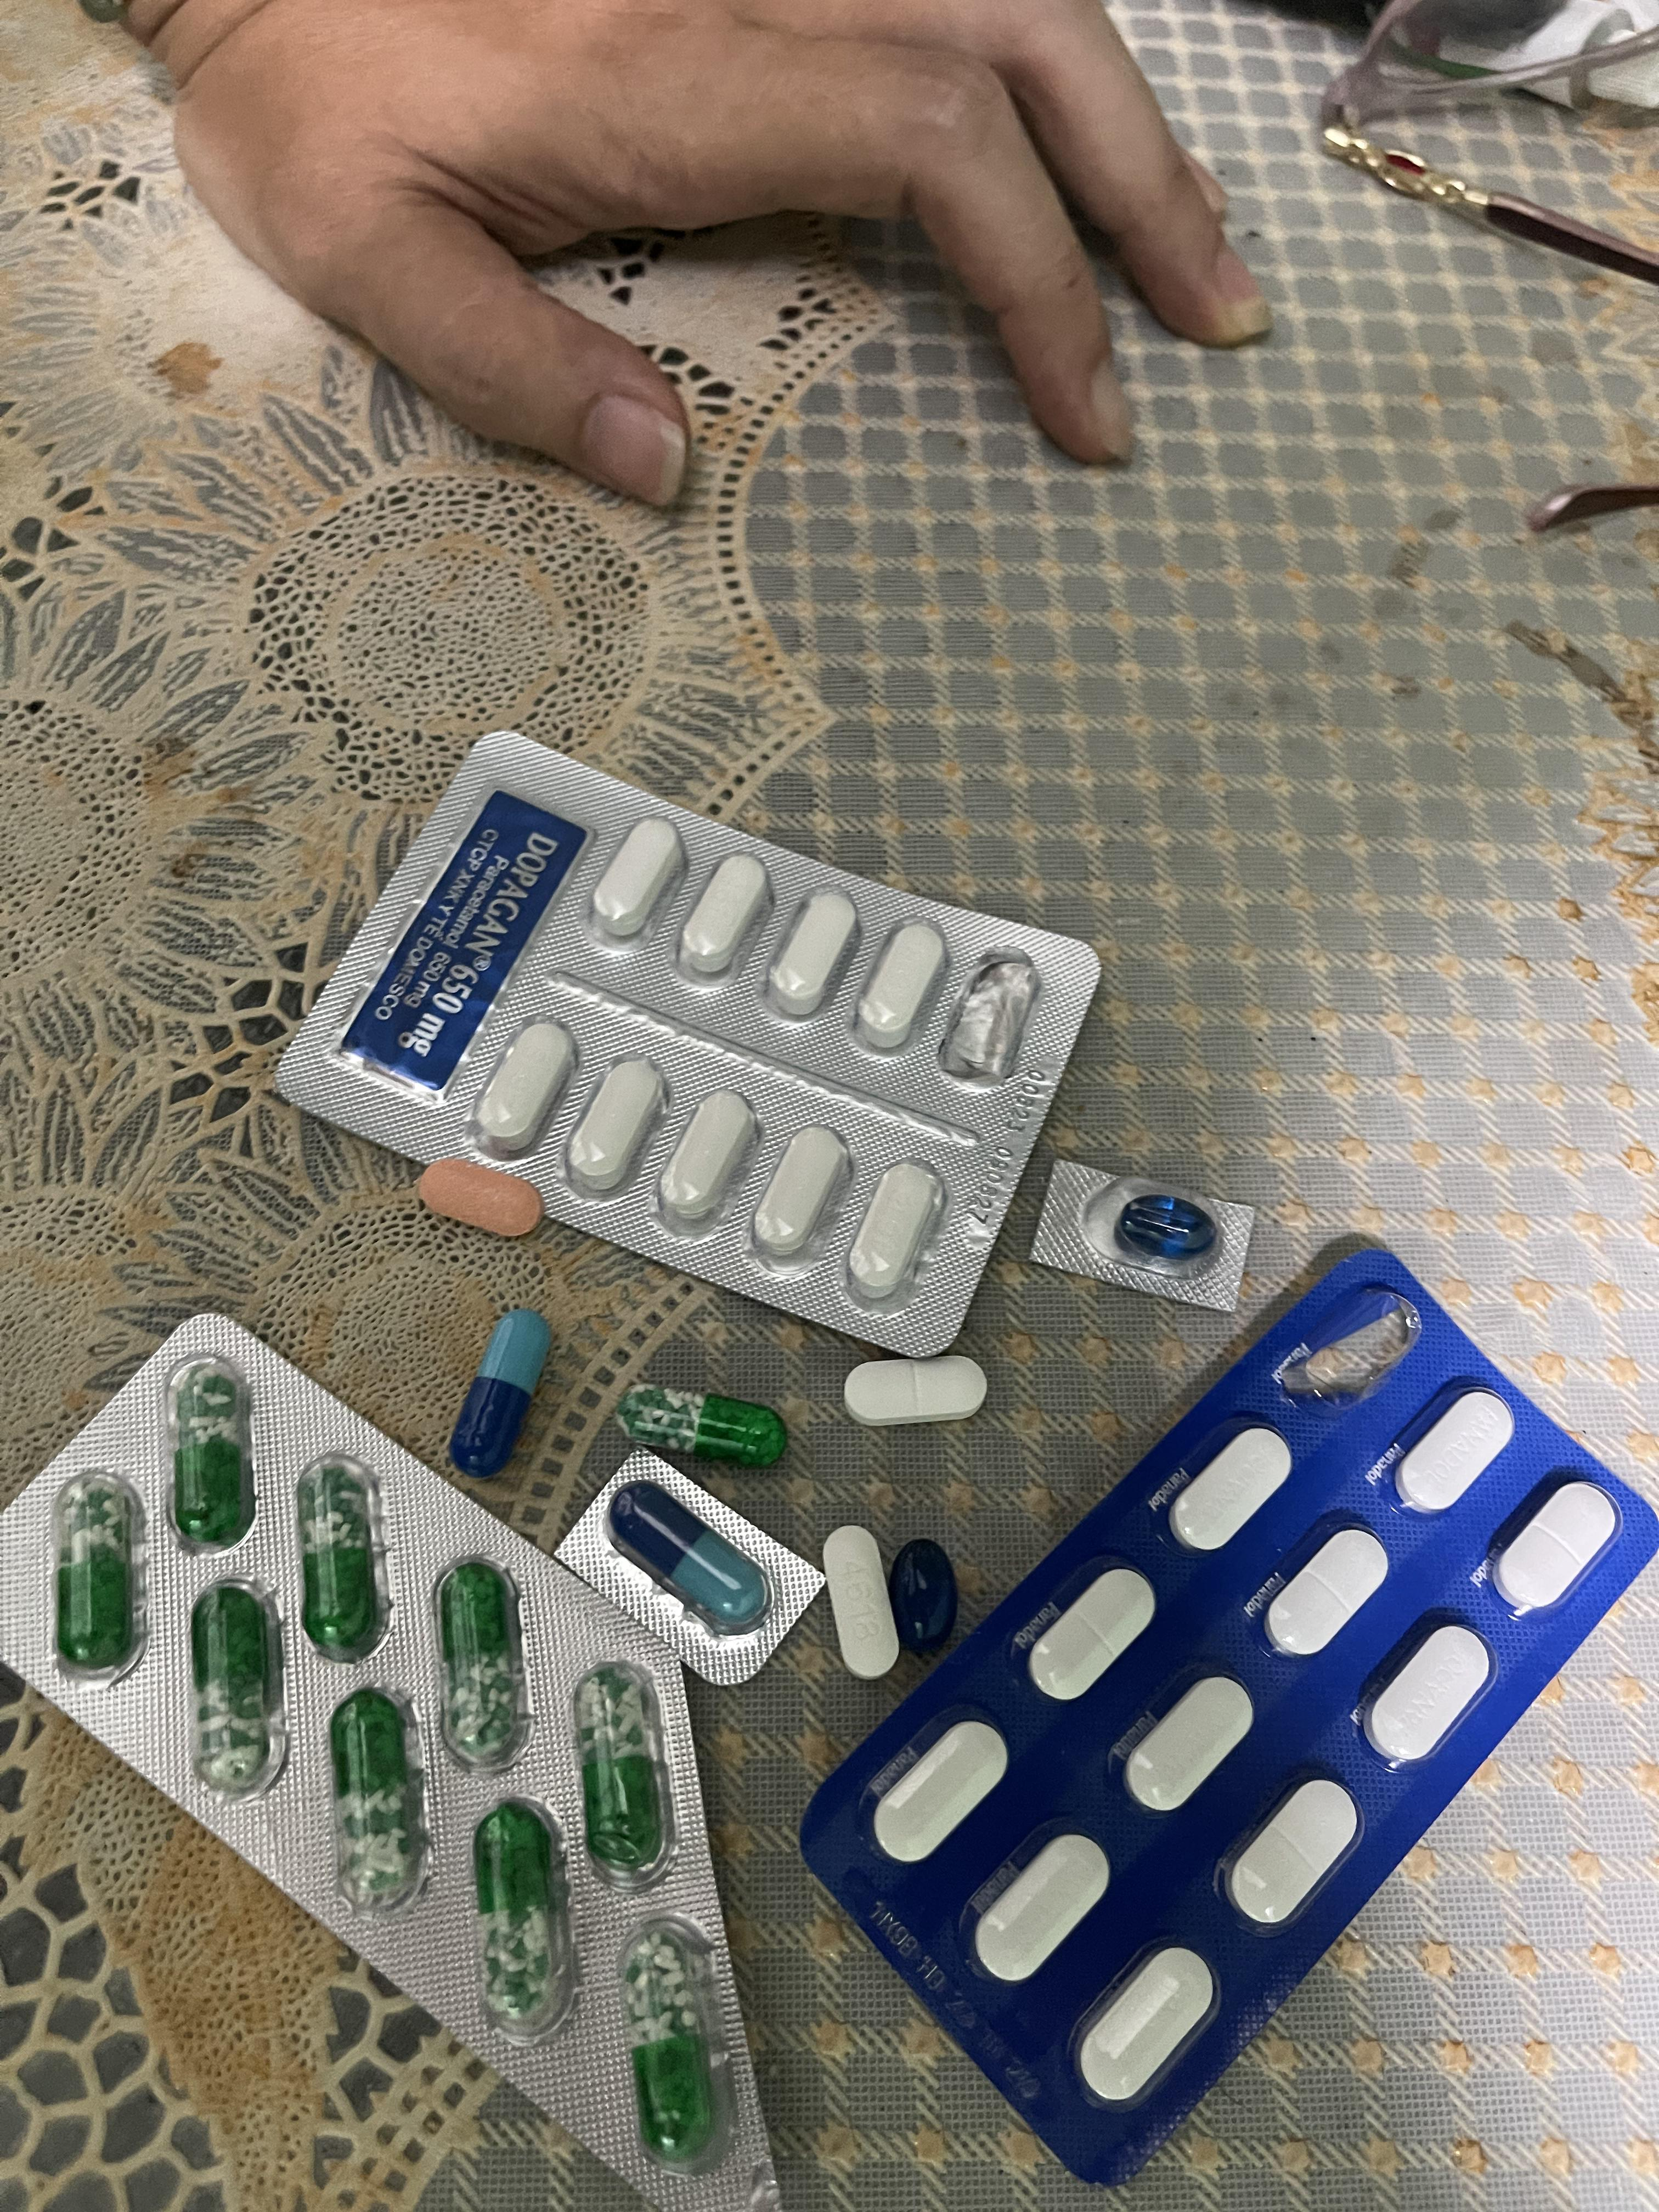Lincomyxin_500mg: (889, 1538, 956, 1654), (1118, 1193, 1214, 1255)
Loratadine_10mg: (417, 1158, 541, 1236)
Paracetamol_350mg: (1077, 1942, 1217, 2108), (1223, 1776, 1361, 1936), (972, 1827, 1109, 1985), (1360, 1617, 1496, 1770), (874, 1716, 1006, 1868), (1116, 1673, 1251, 1818), (1488, 1480, 1620, 1617), (1264, 1524, 1387, 1662), (1030, 1567, 1154, 1703), (1393, 1389, 1519, 1517), (1166, 1425, 1286, 1554), (844, 1352, 986, 1422)
Paracetamol_500mg: (565, 1056, 670, 1195), (473, 1016, 579, 1156), (846, 1160, 947, 1302), (657, 1091, 760, 1229), (751, 1124, 851, 1261), (850, 917, 950, 1053), (676, 853, 774, 988), (764, 886, 860, 1022), (590, 815, 689, 944), (820, 1526, 899, 1679)
Paracetamol_650mg: (618, 1916, 723, 2171), (473, 1801, 574, 2042), (330, 1689, 427, 1914), (574, 1667, 669, 1885), (189, 1584, 284, 1797), (52, 1471, 145, 1683), (435, 1560, 526, 1765), (297, 1457, 390, 1660), (166, 1358, 254, 1543), (617, 1383, 788, 1468)
pill: (607, 1481, 777, 1634), (451, 1316, 552, 1477)
